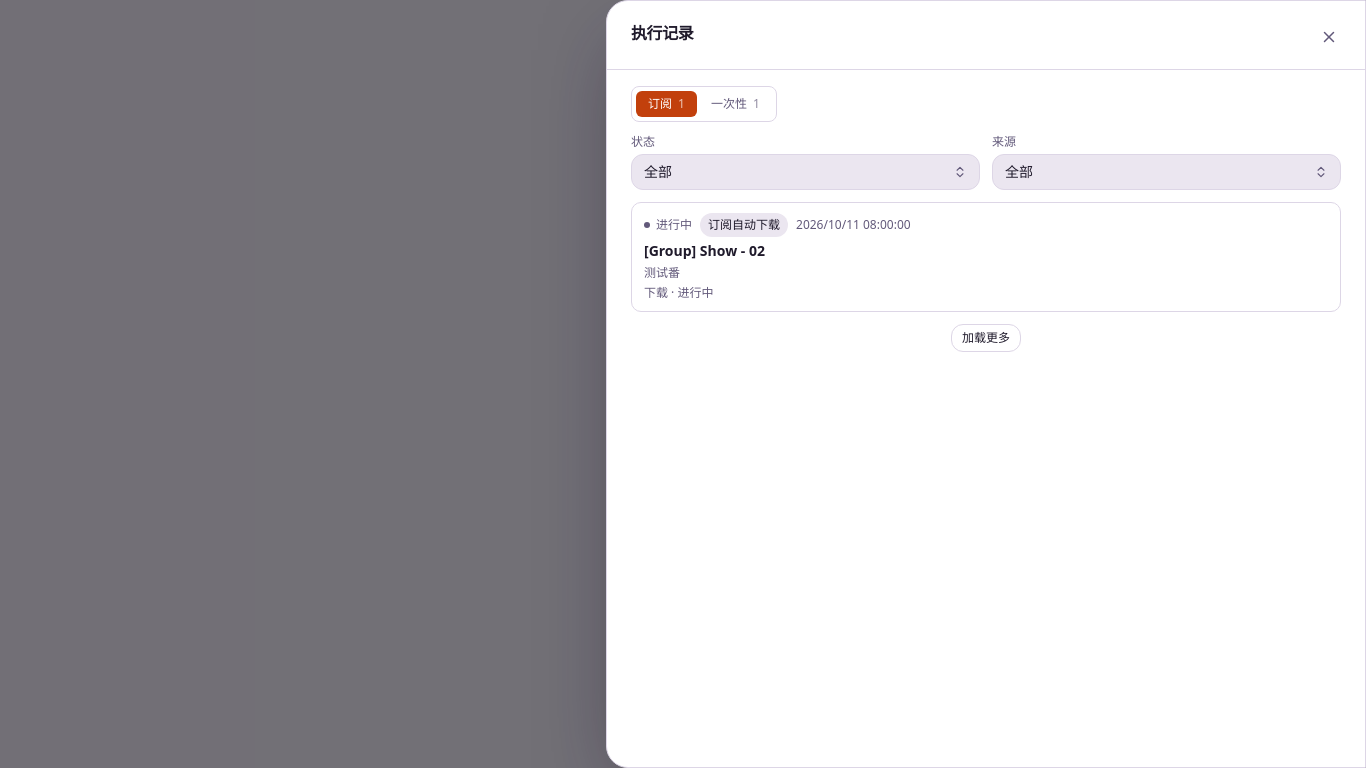
Scenario: ExecutionRecordsDialog 分段 › 切换到一次性：请求 origin=one_shot，隐藏入口细分，记住选择并写回链接
The image size is (1366, 768).
Expected: the list named "执行记录列表" is shown, [631,202,1341,312]
Click the radio button labelled "一次性 1".
click(735, 104)  # box [711,95,760,112]
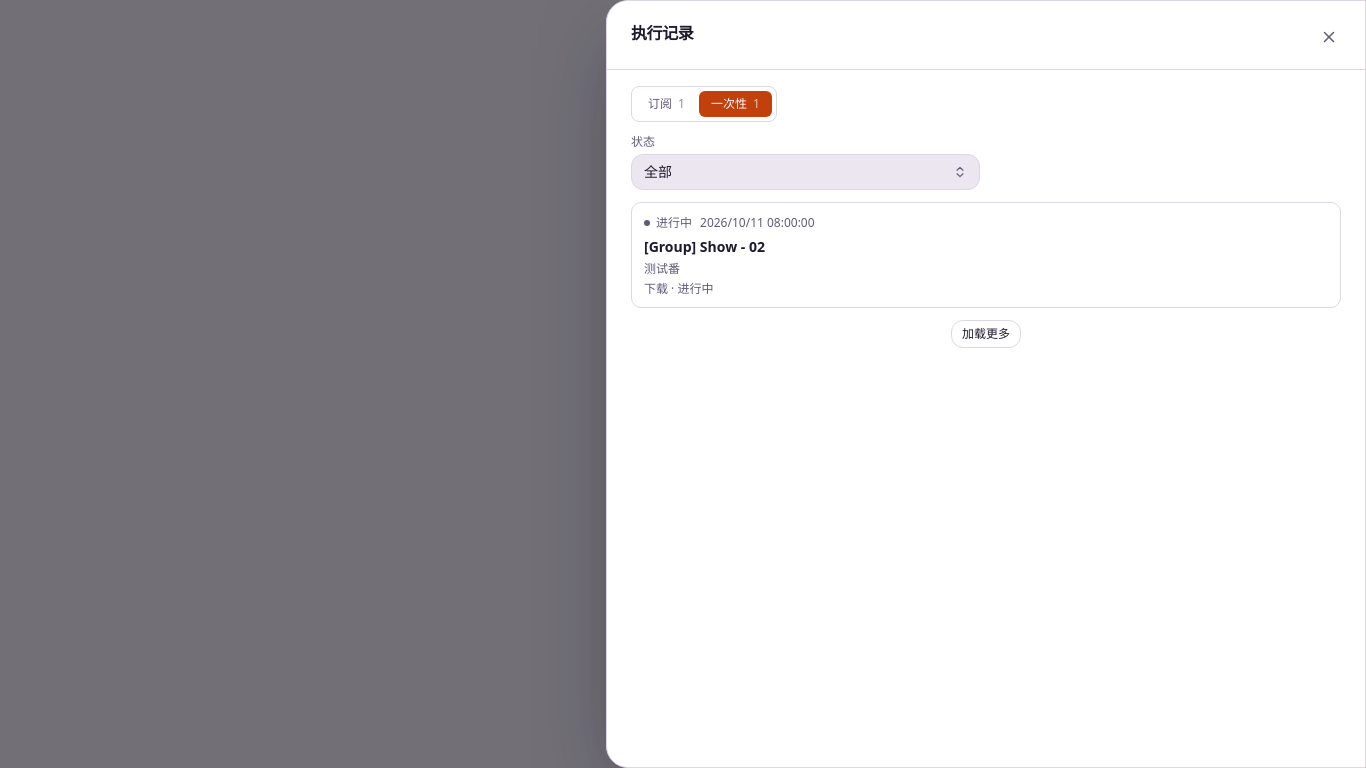
Expected: the text "来源" is gone
